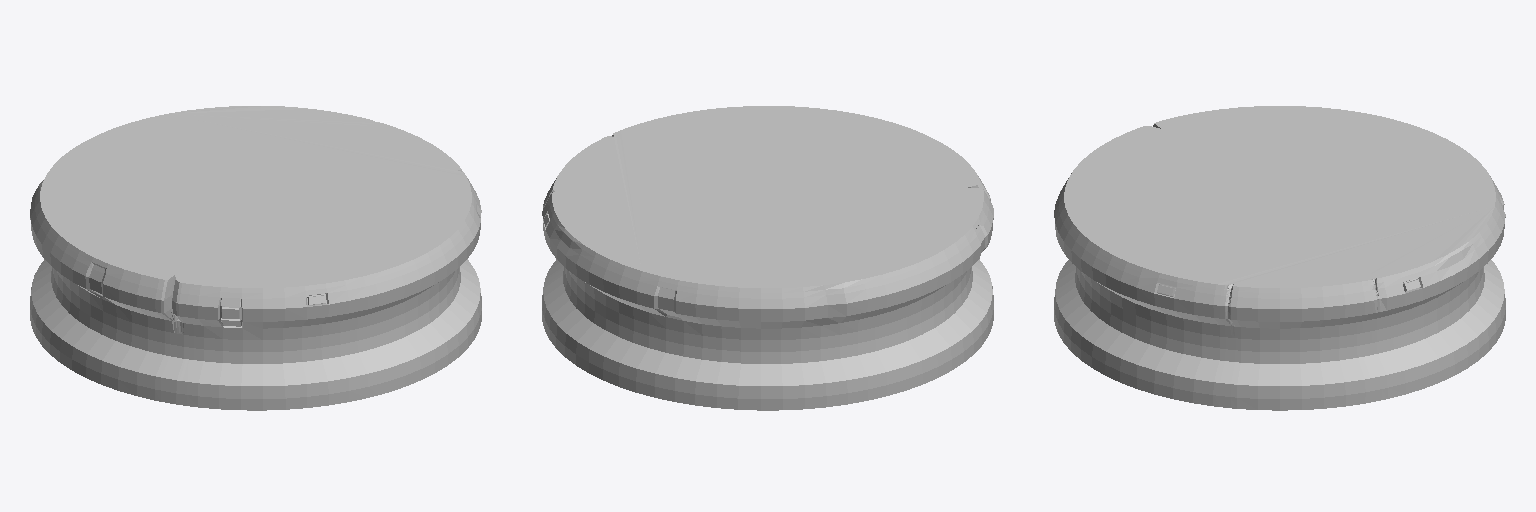
Rendered from pedestal.obj.
The picture shows the model from 3 angles: view 1: azimuth 30°, elevation 25°; view 2: azimuth 150°, elevation 25°; view 3: azimuth 270°, elevation 25°; orthographic projection.
Visible parts, largest first — view 1: Cylinder; view 2: Cylinder; view 3: Cylinder.
Part boxes in pixels (bbox=[...]): Cylinder: bbox=[30, 106, 481, 410]; Cylinder: bbox=[542, 106, 993, 410]; Cylinder: bbox=[1054, 106, 1505, 410].
Size of the model in its own units: 0.9994 by 0.2881 by 0.9995.